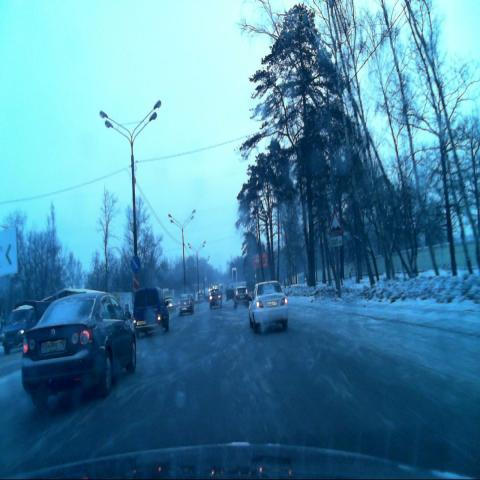1_16: (330, 211, 342, 234)
